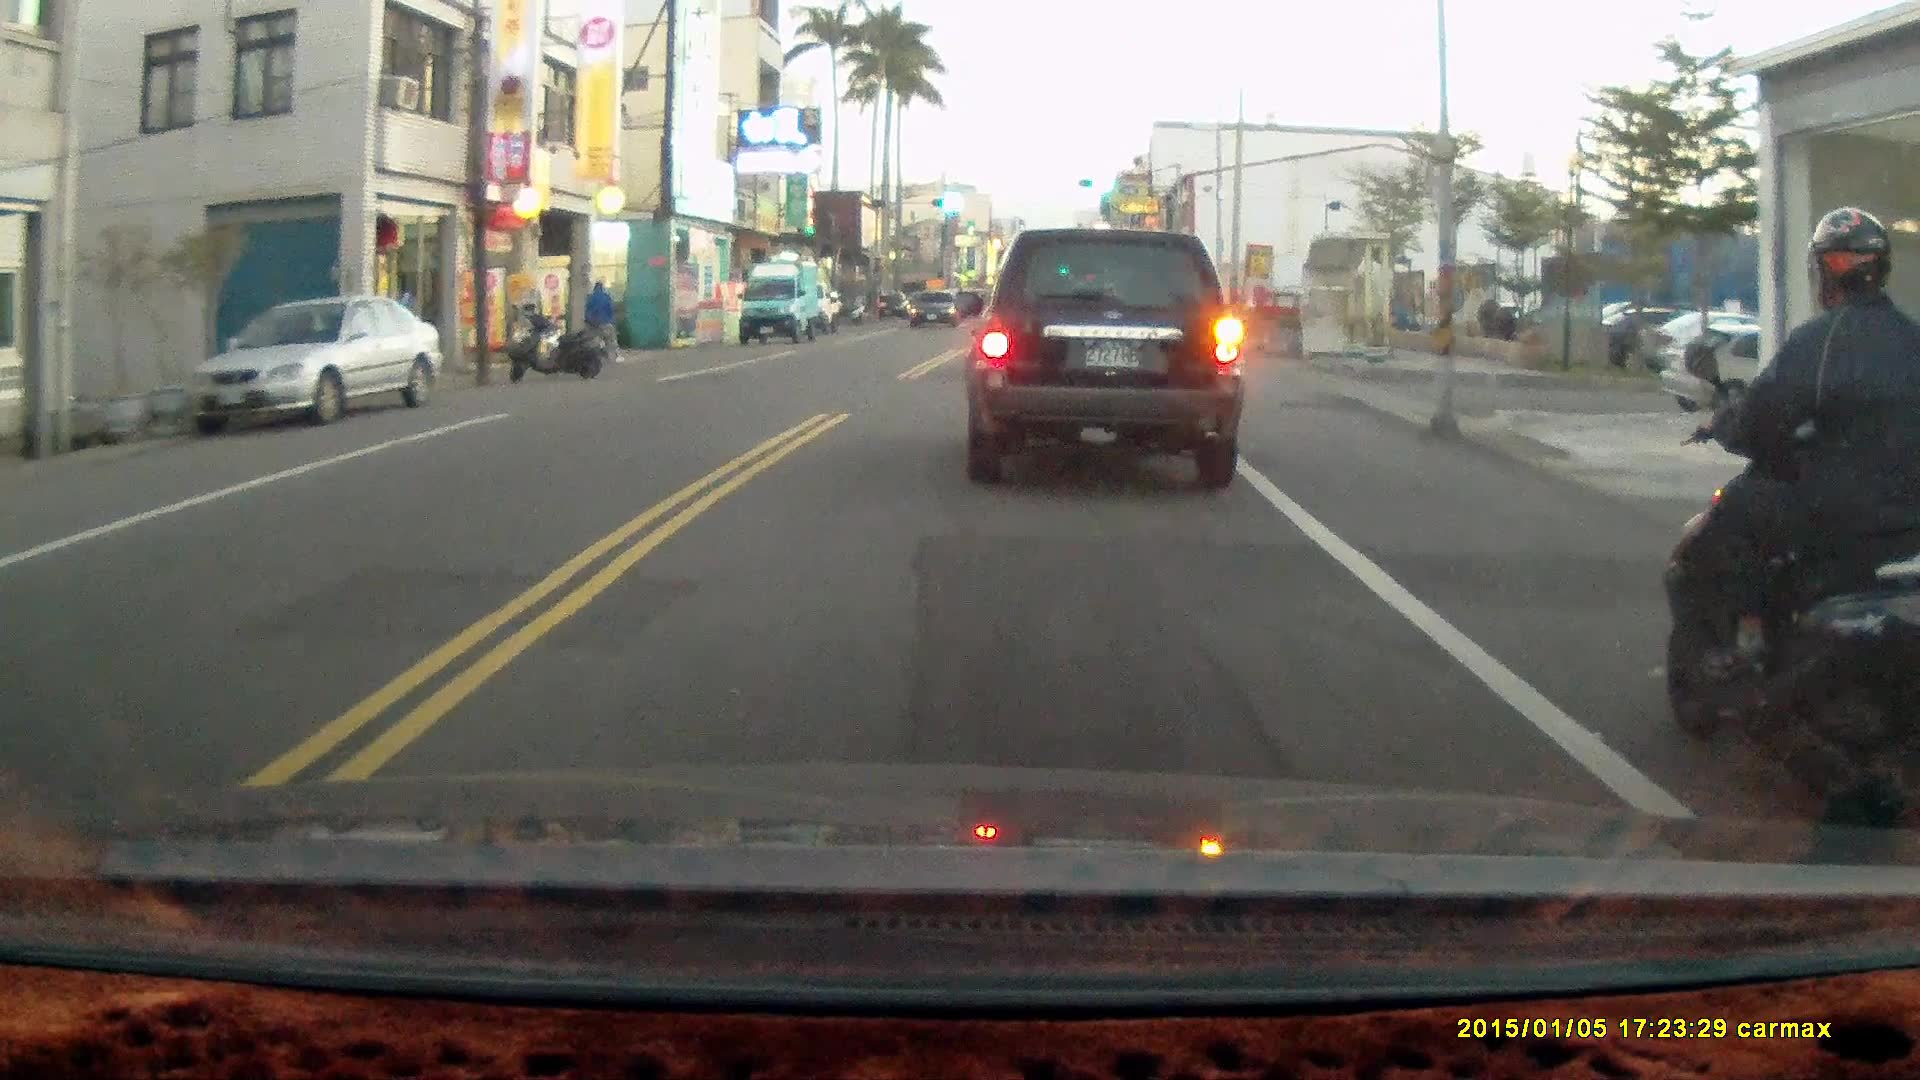pedestrian: (581, 277, 623, 366)
rider: (1657, 207, 1920, 869)
vehicle: (970, 227, 1249, 500), (192, 295, 441, 430), (1666, 327, 1890, 419), (739, 257, 821, 345), (908, 293, 963, 330)
